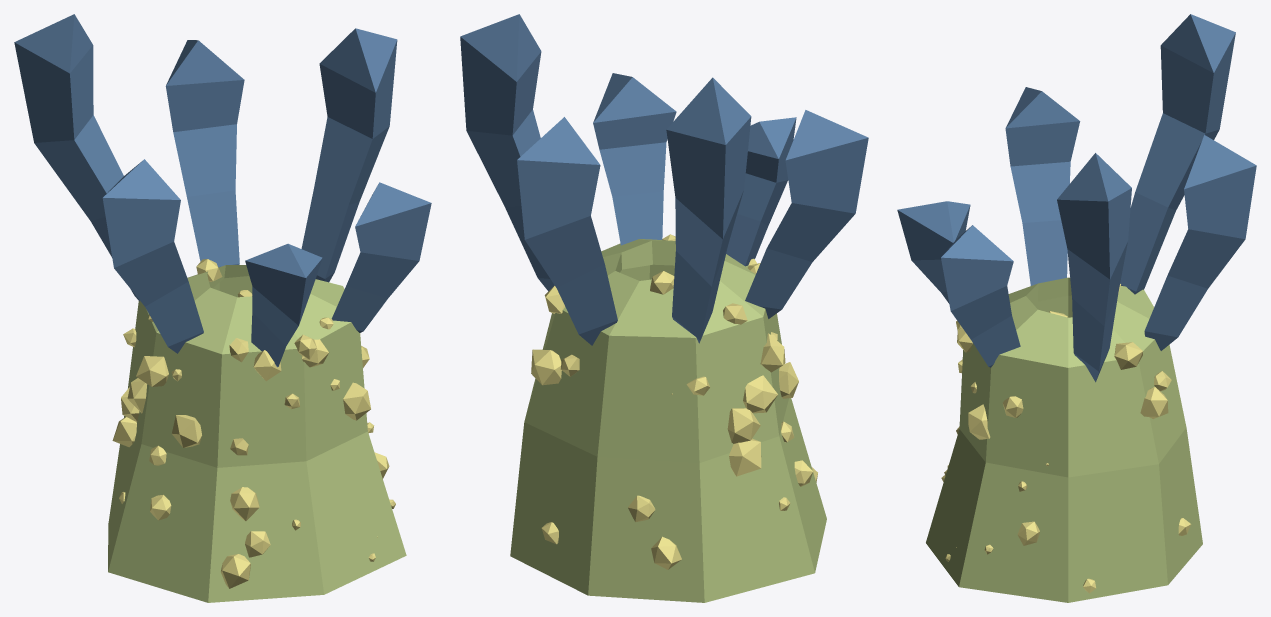
Rendered from Claw Plant Baked.fbx.
The picture shows the model from 3 angles, left to right: view 1: azimuth 30°, elevation 25°; view 2: azimuth 150°, elevation 25°; view 3: azimuth 270°, elevation 25°; orthographic projection. The views are drawn at different scales.
Parts seen in each view (by area): view 1: Claw Plant; view 2: Claw Plant; view 3: Claw Plant.
Part boxes in pixels (<box>): Claw Plant: <box>14,14,431,602</box>; Claw Plant: <box>460,14,868,602</box>; Claw Plant: <box>897,14,1256,602</box>.
Size of the model in its own units: 263 by 376 by 256.
